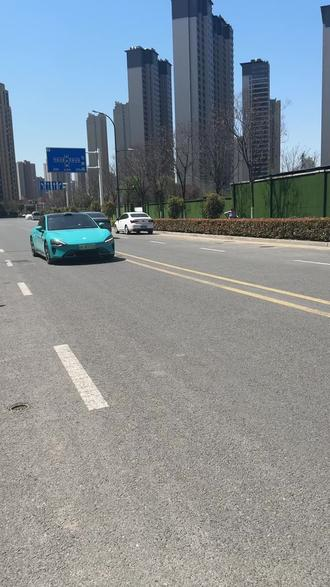other: (117, 208, 156, 237)
su7: (31, 211, 121, 265)
